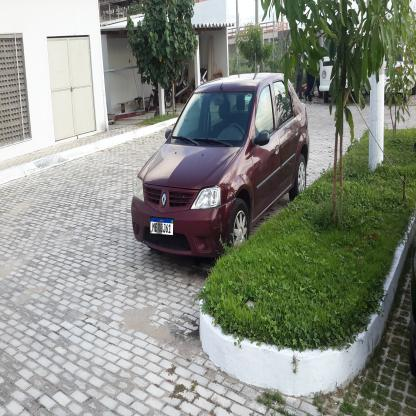PlacaM: (150, 217, 174, 236)
